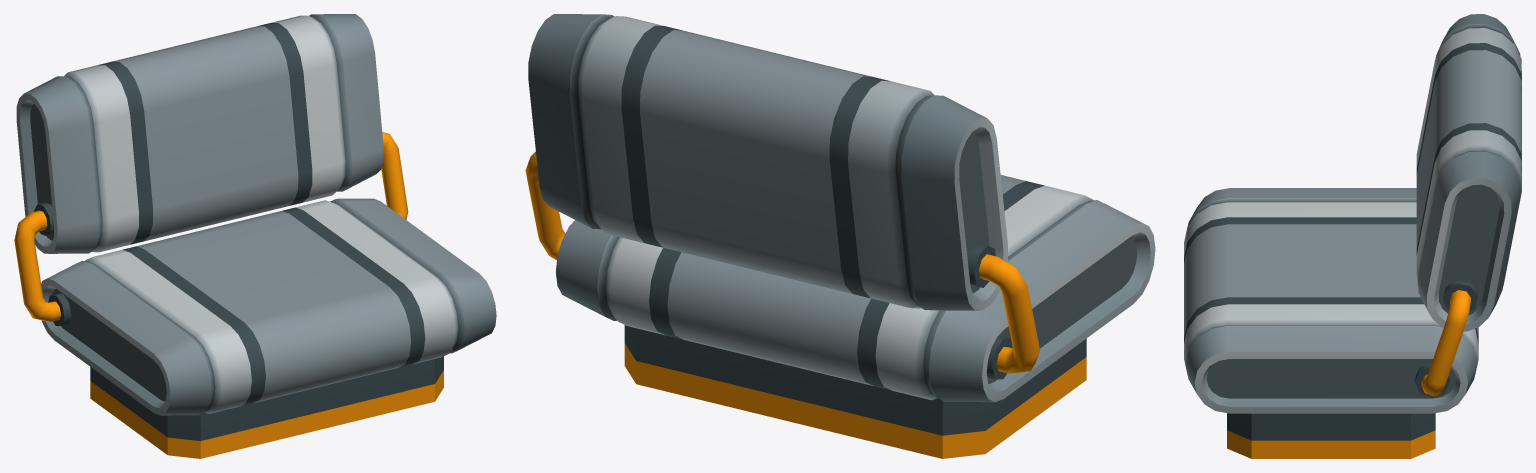
File: Mini_sofa_005.fbx
3 views of the same model, side by side, from view 1: azimuth 30°, elevation 25°; view 2: azimuth 150°, elevation 25°; view 3: azimuth 270°, elevation 25° (orthographic). The views are drawn at different scales.
Visible parts, largest first — view 1: Mini_sofa_005; view 2: Mini_sofa_005; view 3: Mini_sofa_005.
Boxes of the visible parts, box(x1,y1,x2,y2) form: Mini_sofa_005: box(14, 14, 496, 458); Mini_sofa_005: box(525, 14, 1155, 458); Mini_sofa_005: box(1184, 14, 1521, 458).
Bounding box in the file's own units: 132 × 98.51 × 97.47.
